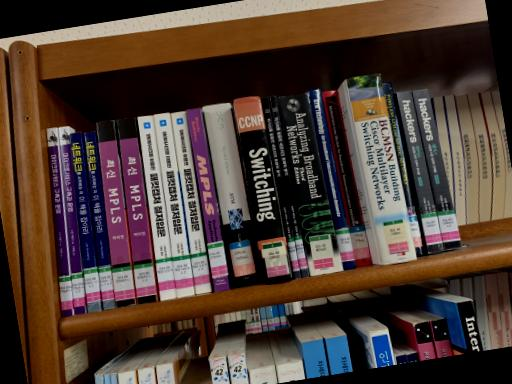book-spine: (346, 73, 417, 265), (277, 92, 343, 276), (231, 96, 293, 284), (201, 102, 261, 287), (322, 90, 372, 267), (308, 88, 356, 270), (412, 89, 462, 249), (396, 90, 444, 253), (187, 107, 229, 292), (170, 111, 211, 295), (96, 119, 135, 308), (381, 81, 423, 256), (261, 96, 301, 279), (155, 112, 194, 298), (138, 115, 177, 300), (118, 117, 156, 304), (270, 95, 308, 278), (69, 132, 102, 312), (83, 130, 115, 309), (58, 126, 85, 315), (46, 128, 72, 317)
